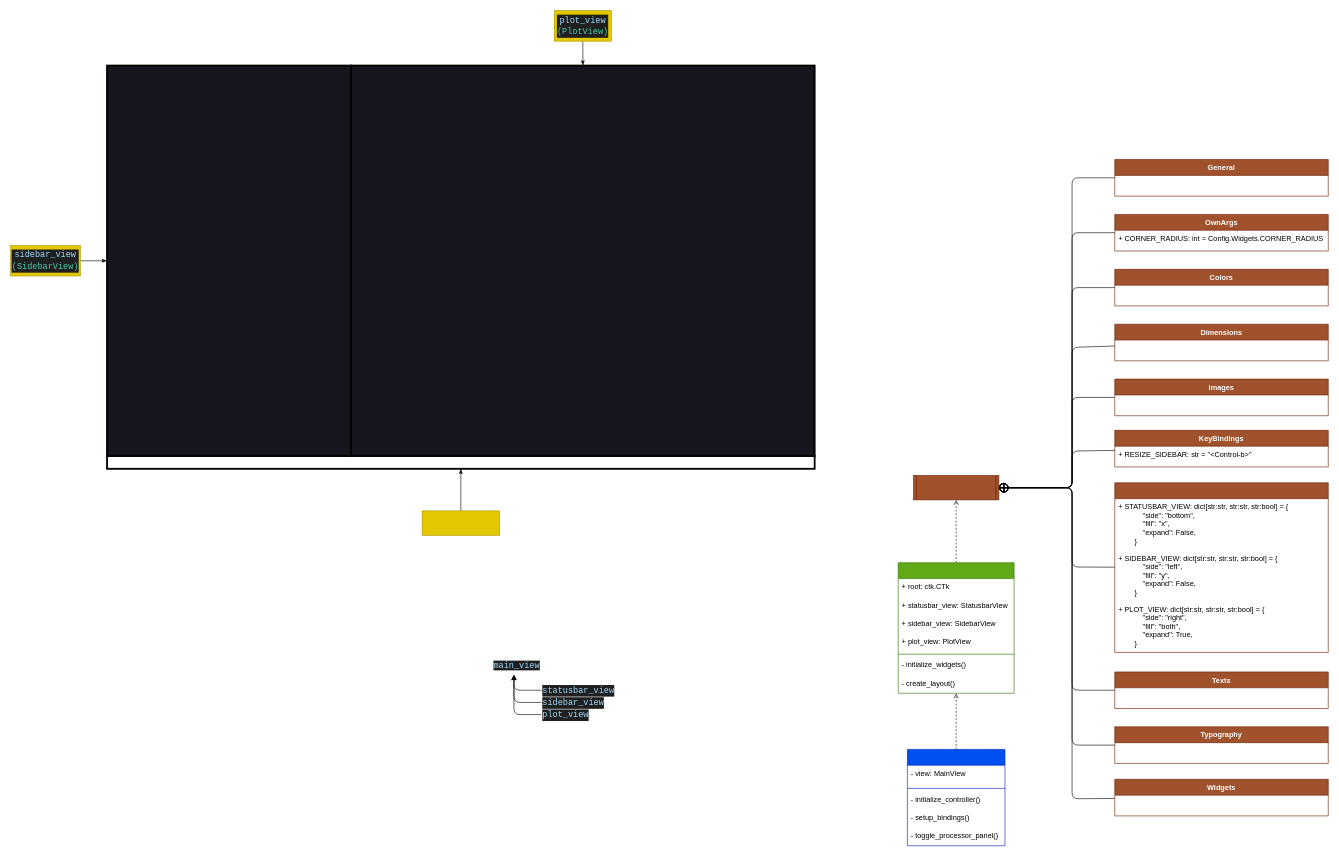
This 1339x858 diagram has some shape labels left out. The box of each missing label's shape, as (x1, y1, x2, y2) in pixels:
Layout: (1114, 482, 1328, 652)
MainConfig: (913, 475, 999, 500)
MainController: (907, 749, 1005, 846)
MainView: (898, 562, 1014, 693)
statusbar_view ( StatusbarView): (422, 510, 500, 535)
